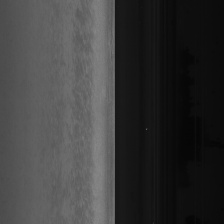silk_spot: (56, 77, 97, 134)
